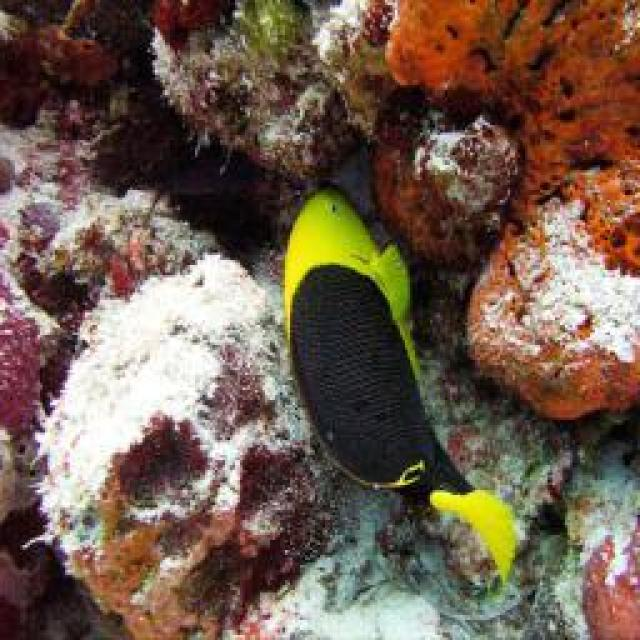fish: (278, 183, 521, 586)
